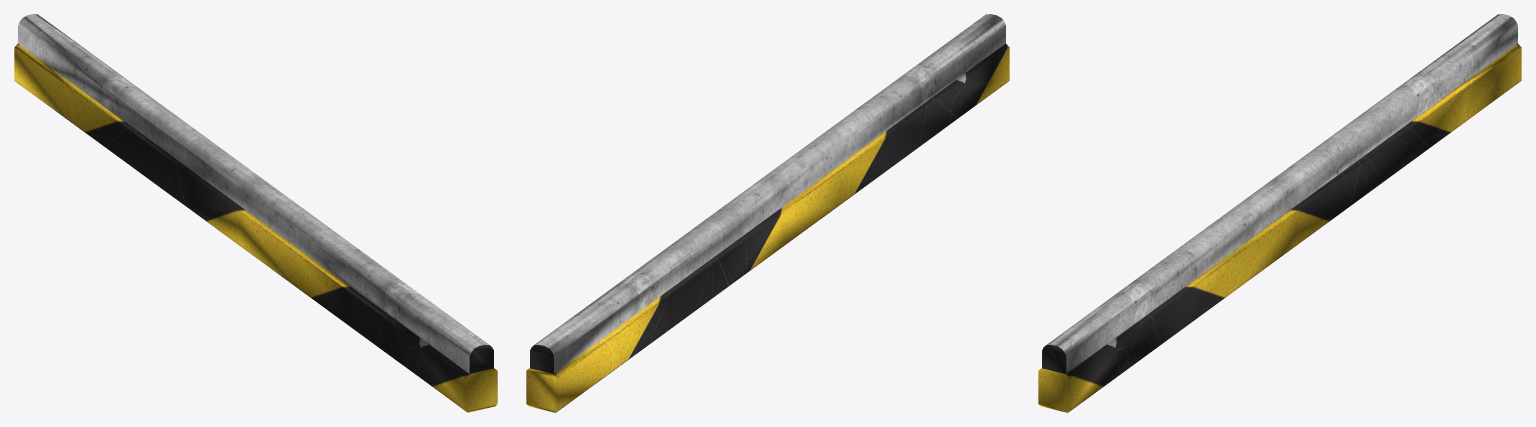
File: Ob_GrindRailDECOR_RC.fbx
3 renders of one model, left to right at view 1: azimuth 30°, elevation 25°; view 2: azimuth 150°, elevation 25°; view 3: azimuth 330°, elevation 25°, orthographic.
Parts seen in each view (by area): view 1: Ob_GrindRailFull_RC.002; view 2: Ob_GrindRailFull_RC.002; view 3: Ob_GrindRailFull_RC.002.
Part boxes in pixels (box(x1,y1,x2,y2)): Ob_GrindRailFull_RC.002: box(14, 14, 497, 412); Ob_GrindRailFull_RC.002: box(526, 14, 1009, 412); Ob_GrindRailFull_RC.002: box(1038, 14, 1521, 412).
Bounding box in the file's own units: 32.07 × 62.73 × 800.
